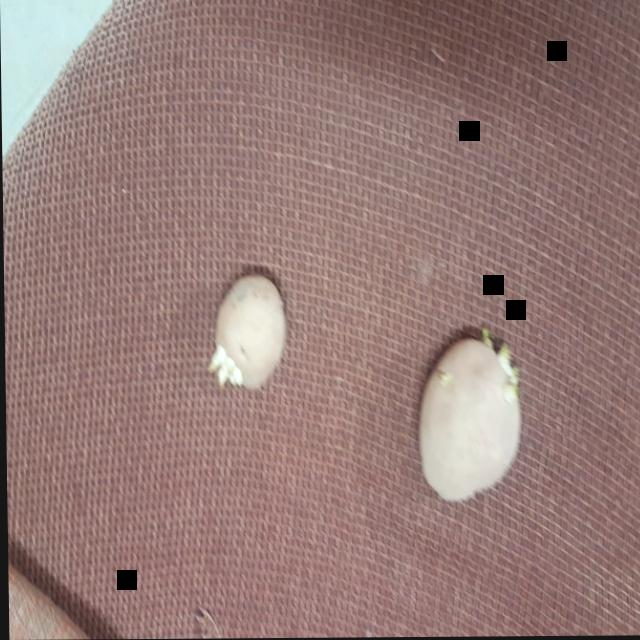potato: (408, 328, 534, 511), (205, 266, 293, 395)
